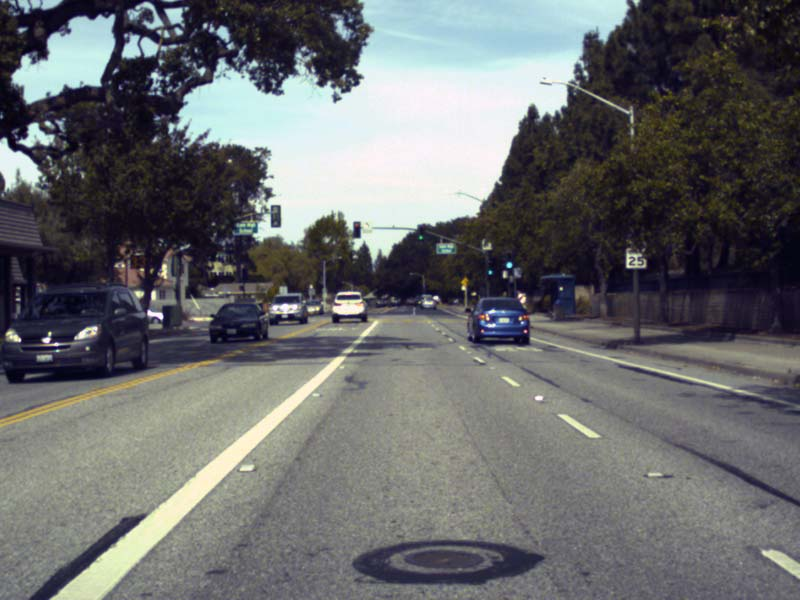Green: (506, 252, 512, 269), (487, 261, 493, 277), (418, 226, 424, 241)
Red: (353, 222, 359, 237)
